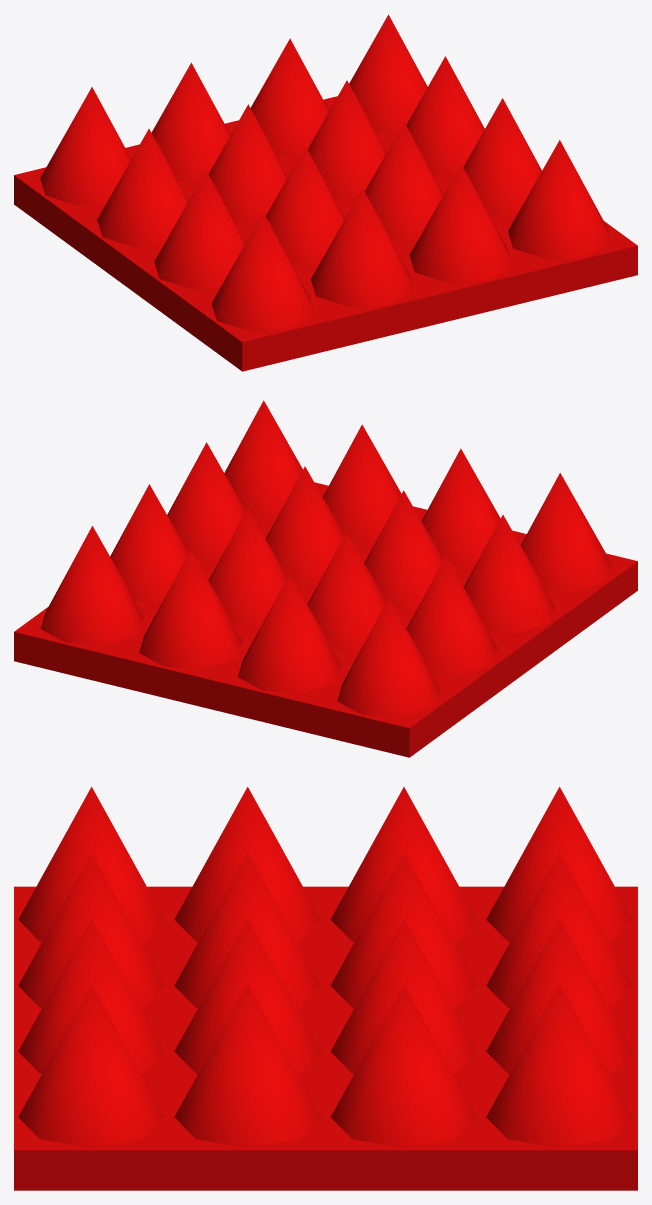
The model's file is Floor_trap_x1_01.fbx.
3 views of the same model, one above another, from view 1: azimuth 30°, elevation 25°; view 2: azimuth 150°, elevation 25°; view 3: azimuth 270°, elevation 25° (orthographic). The views are drawn at different scales.
Visible parts, largest first — view 1: Floor_trap_x1_01; view 2: Floor_trap_x1_01; view 3: Floor_trap_x1_01.
Part boxes in pixels (x1=…): Floor_trap_x1_01: x1=14, y1=14, x2=637, y2=371; Floor_trap_x1_01: x1=14, y1=400, x2=637, y2=757; Floor_trap_x1_01: x1=14, y1=787, x2=637, y2=1190.
Bounding box in the file's own units: 4 × 1.23 × 4.
